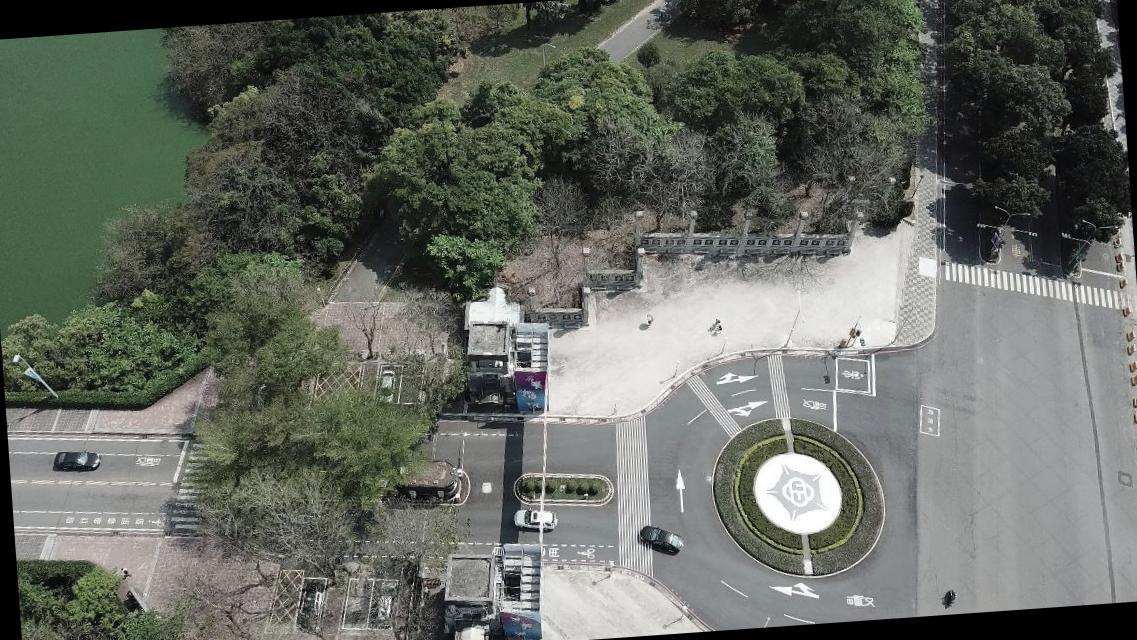vehicle: (294, 578, 326, 628), (372, 576, 402, 628), (640, 522, 686, 554), (52, 447, 102, 474), (512, 506, 559, 534), (375, 366, 398, 406)
